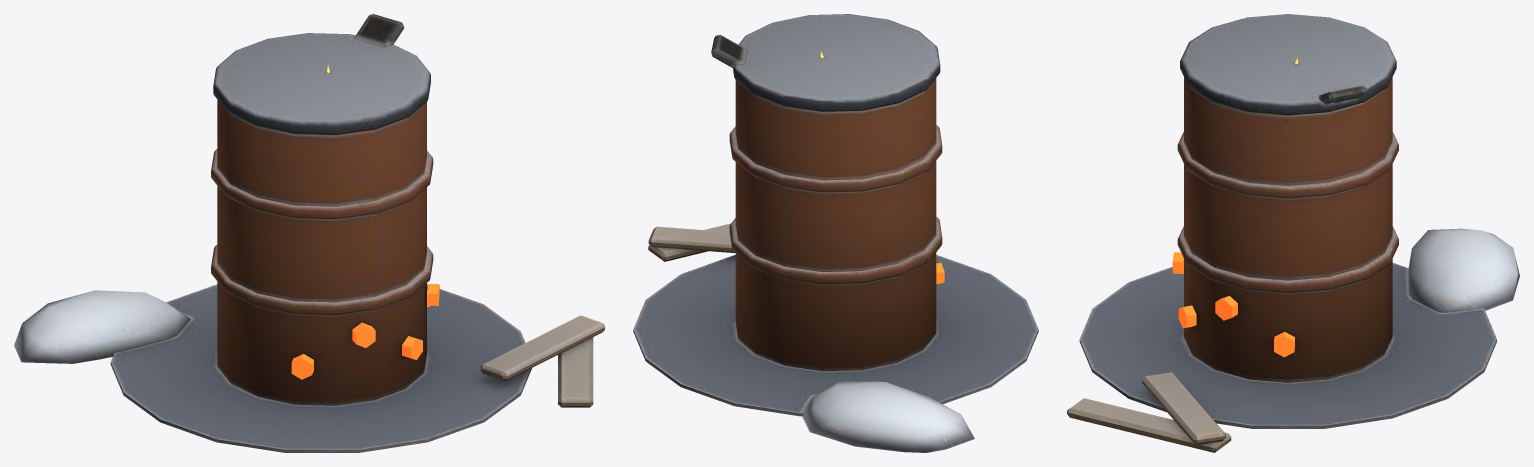
File: fire_barrel_low.glb
3 renders of one model, left to right at view 1: azimuth 30°, elevation 25°; view 2: azimuth 150°, elevation 25°; view 3: azimuth 270°, elevation 25°, orthographic. The views are drawn at different scales.
Parts seen in each view (by area): view 1: fire_barrel_low, fire_barrel_low_glow; view 2: fire_barrel_low; view 3: fire_barrel_low, fire_barrel_low_glow.
Part boxes in pixels (left/top/right/bottom): fire_barrel_low: left=14, top=14, right=604, bottom=452; fire_barrel_low_glow: left=291, top=65, right=439, bottom=379; fire_barrel_low: left=633, top=14, right=1038, bottom=452; fire_barrel_low: left=1067, top=14, right=1519, bottom=452; fire_barrel_low_glow: left=1172, top=57, right=1298, bottom=357.
Size of the model in its own units: 1.51 by 0.9513 by 1.3.
3 materials, 1 textured.
